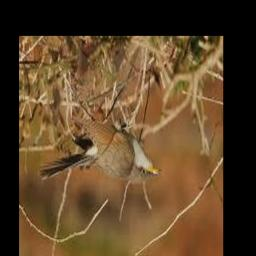Cuckoo: (41, 121, 163, 182)
